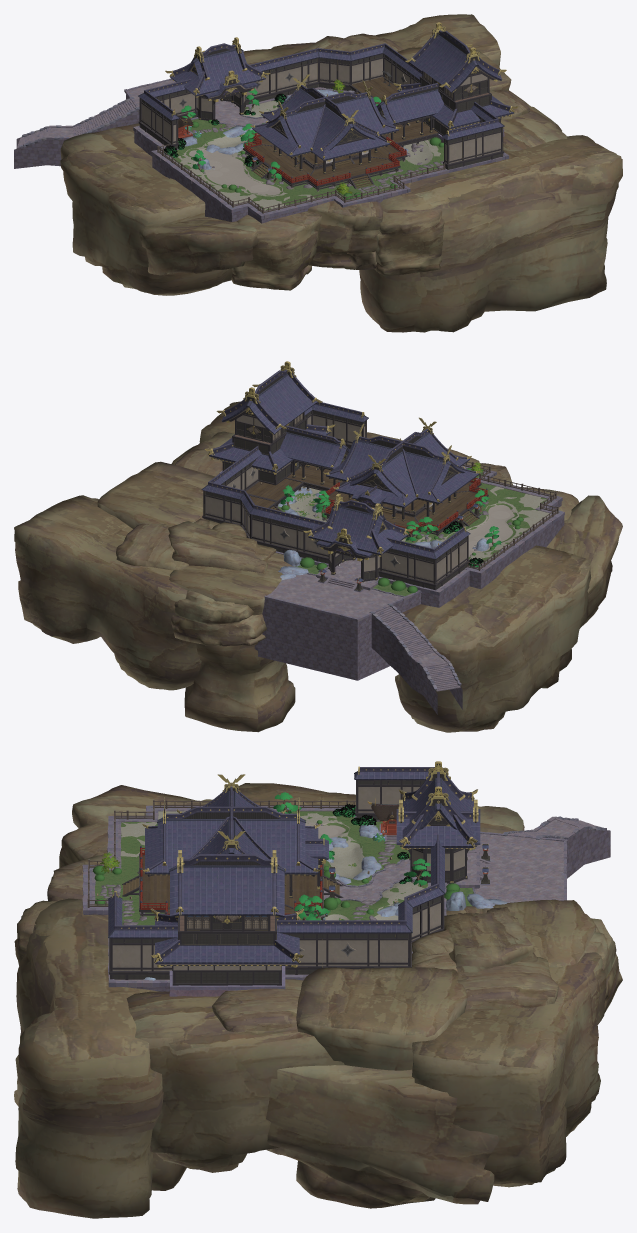
The model's file is scene_fix.fbx.
The picture shows the model from 3 angles, top to bottom: view 1: azimuth 30°, elevation 25°; view 2: azimuth 150°, elevation 25°; view 3: azimuth 270°, elevation 25°; orthographic projection. The views are drawn at different scales.
Parts seen in each view (by area): view 1: 岩石6, 岩石3, 岩石4, 岩石5, 岩石17, 岩石15, 主体建筑, 草地, 大门 台阶, 左侧 屋檐, 岩石1, 大门 (+37 smaller); view 2: 岩石3, 岩石1, 岩石2, 侧面墙体, 岩石9, 岩石4, 岩石0, 主体建筑, 岩石, 门口的石地板, 楼梯 外, 左侧 屋檐 (+32 smaller); view 3: 岩石6, 岩石1, 岩石8, 岩石7, 岩石9, 左侧 屋檐, 主体建筑, 门口的石地板, 岩石2, 岩石, 草地, 岩石10 (+34 smaller).
Part boxes in pixels (x1,y1,x2,y2): 岩石6: (359,135,622,332); 岩石3: (60,123,232,295); 岩石4: (139,216,257,275); 岩石5: (231,211,321,290); 岩石17: (307,200,383,269); 岩石15: (374,209,444,275); 主体建筑: (393,22,518,135); 草地: (173,92,443,210); 大门 台阶: (133,87,509,219); 左侧 屋檐: (397,35,514,128); 岩石1: (271,14,500,67); 大门: (165,37,270,120); 岩石3: (395,545,591,732); 岩石1: (14,495,201,690); 岩石2: (169,552,295,732); 侧面墙体: (254,593,462,714); 岩石9: (97,461,214,528); 岩石4: (546,495,622,625); 岩石0: (171,590,266,646); 主体建筑: (204,361,334,485); 岩石: (168,521,276,573); 门口的石地板: (266,574,445,665); 楼梯 外: (264,573,461,691); 左侧 屋檐: (209,375,330,472); 岩石6: (14,898,186,1218); 岩石1: (412,952,606,1187); 岩石8: (266,1065,499,1204); 岩石7: (126,991,345,1172); 岩石9: (296,967,467,1208); 左侧 屋檐: (155,866,299,964); 主体建筑: (150,850,303,985); 门口的石地板: (474,819,578,902); 岩石2: (446,899,596,967); 岩石: (444,907,537,972); 草地: (95,811,427,925); 岩石10: (456,957,558,1011).
Size of the model in its own units: 11165 by 5398 by 9498.
Materials: 289 (268 with a texture image).
